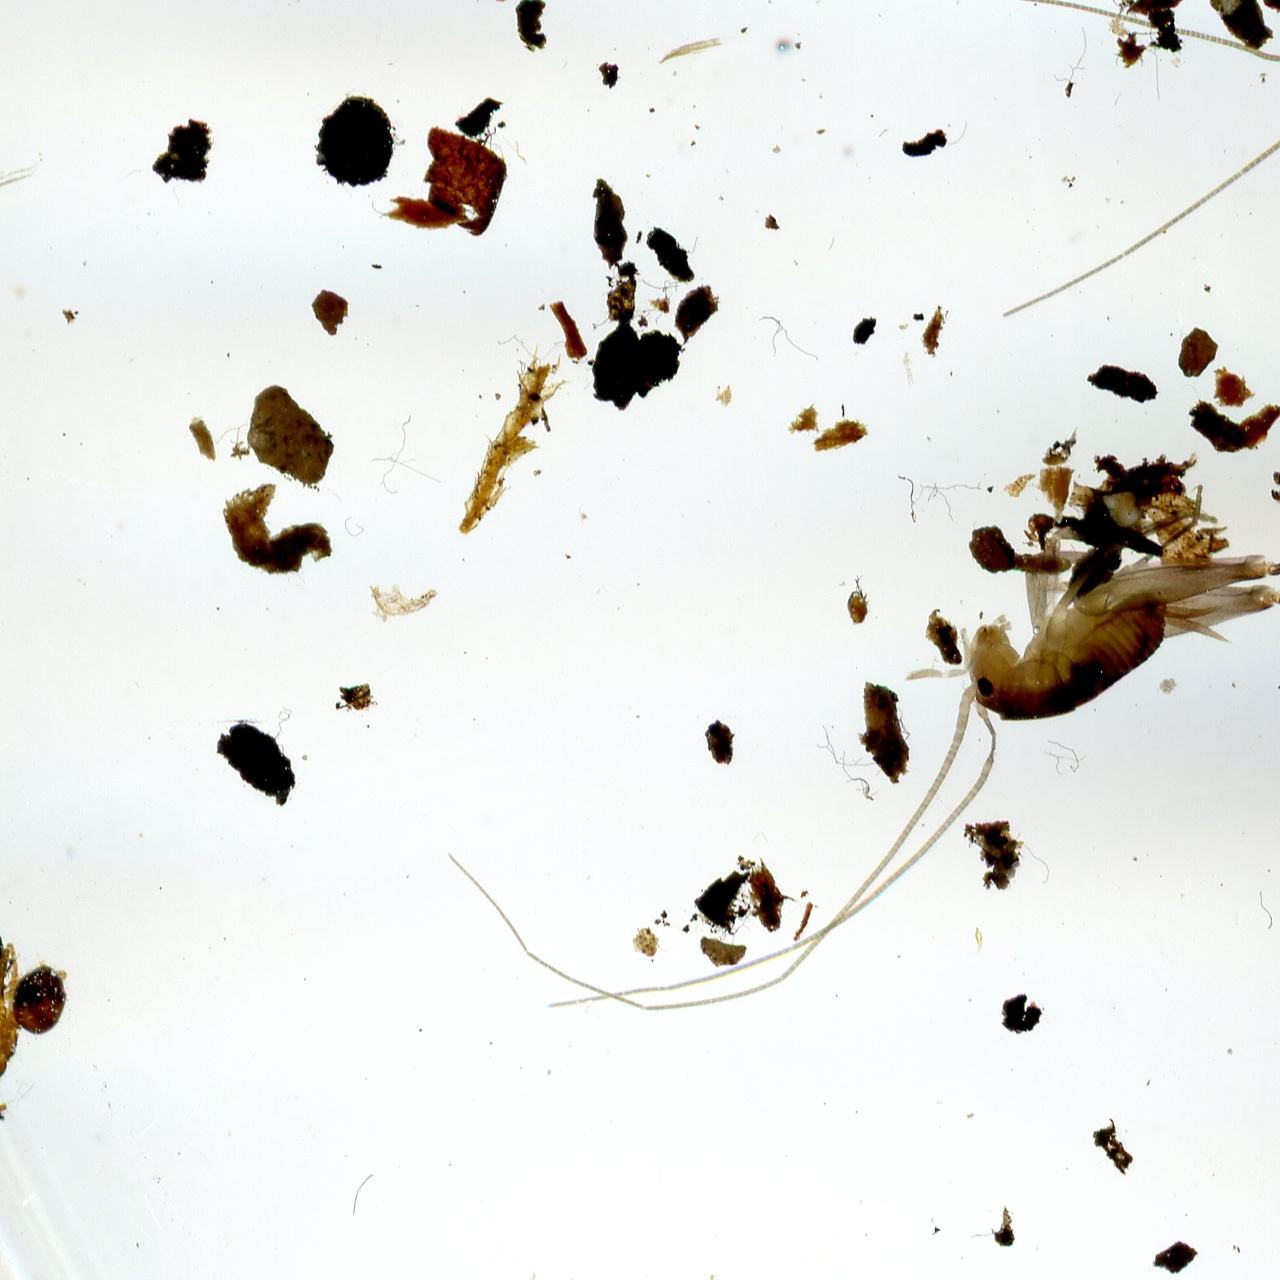arthropod: (411, 179, 1280, 1142), (816, 0, 1280, 342)
